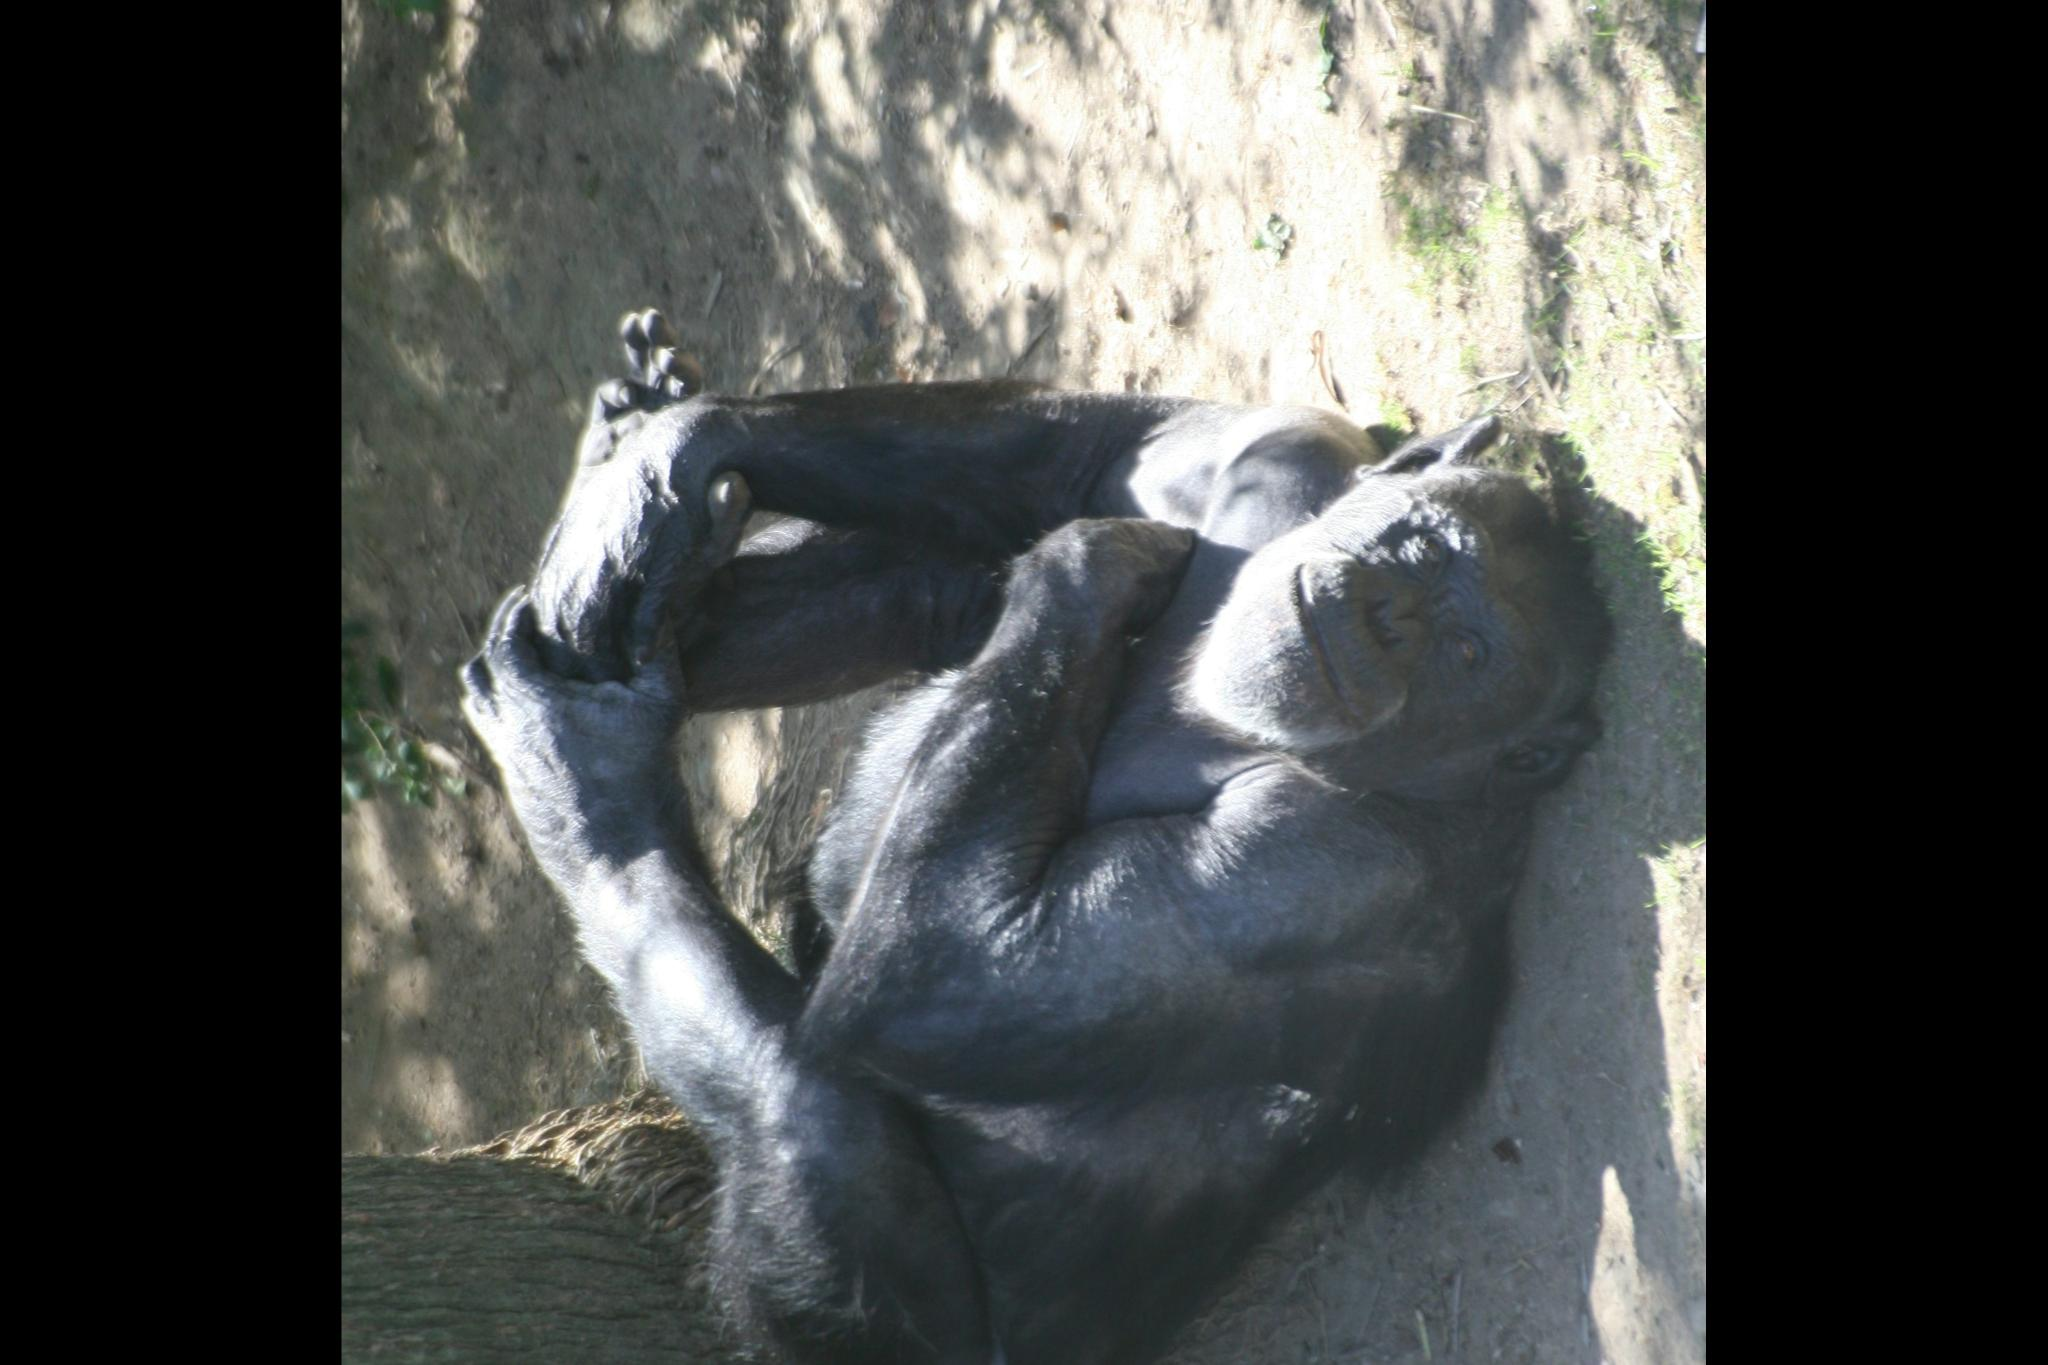gorille_Autres: (341, 288, 1648, 1365)
